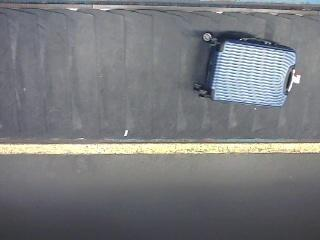Suitcase: (194, 33, 300, 107)
